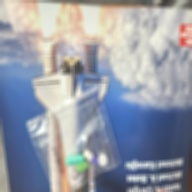러키펜정: (98, 154, 107, 167)
씨엠지세파클러캡슐: (83, 150, 98, 166)
에르도캡슐: (66, 154, 85, 166)
휴티렌정: (76, 160, 89, 173)
